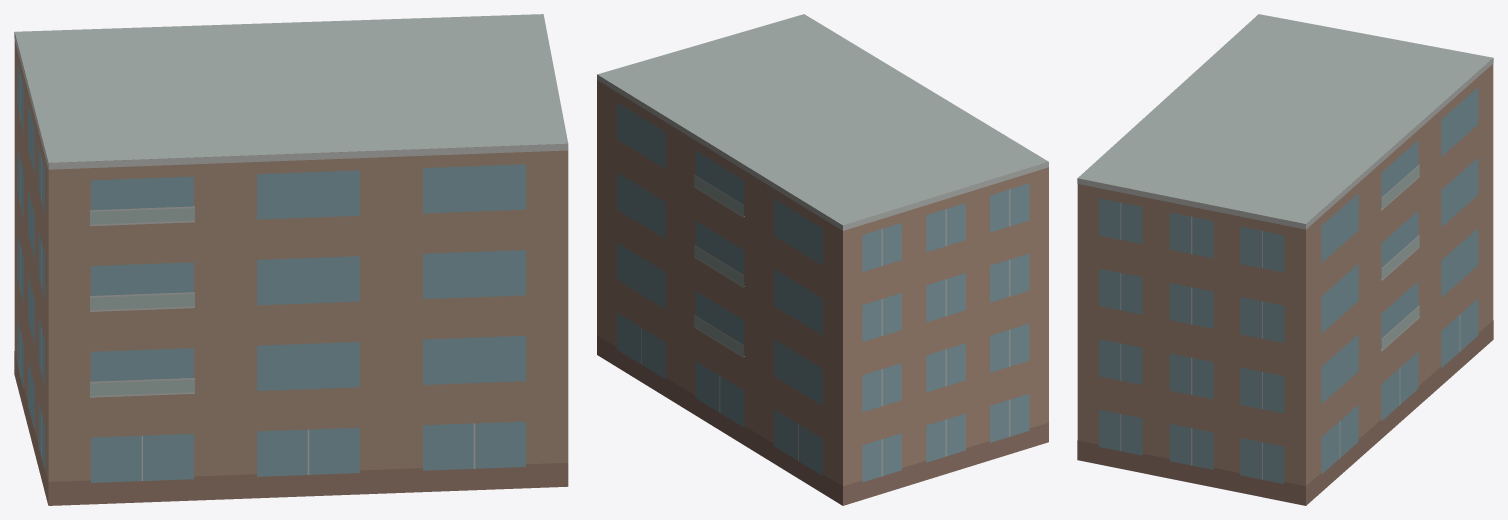
Rendered from survey-upis-32635609.glb.
3 renders of one model, left to right at view 1: azimuth 30°, elevation 25°; view 2: azimuth 150°, elevation 25°; view 3: azimuth 270°, elevation 25°, orthographic. The views are drawn at different scales.
Visible parts, largest first — view 1: survey-upis-32635609.tmp; view 2: survey-upis-32635609.tmp; view 3: survey-upis-32635609.tmp.
Part boxes in pixels (box(x1,y1,x2,y2)): survey-upis-32635609.tmp: box(14, 14, 568, 505); survey-upis-32635609.tmp: box(597, 14, 1048, 505); survey-upis-32635609.tmp: box(1077, 14, 1493, 505).
Size of the model in its own units: 19.67 by 12.3 by 16.46.
